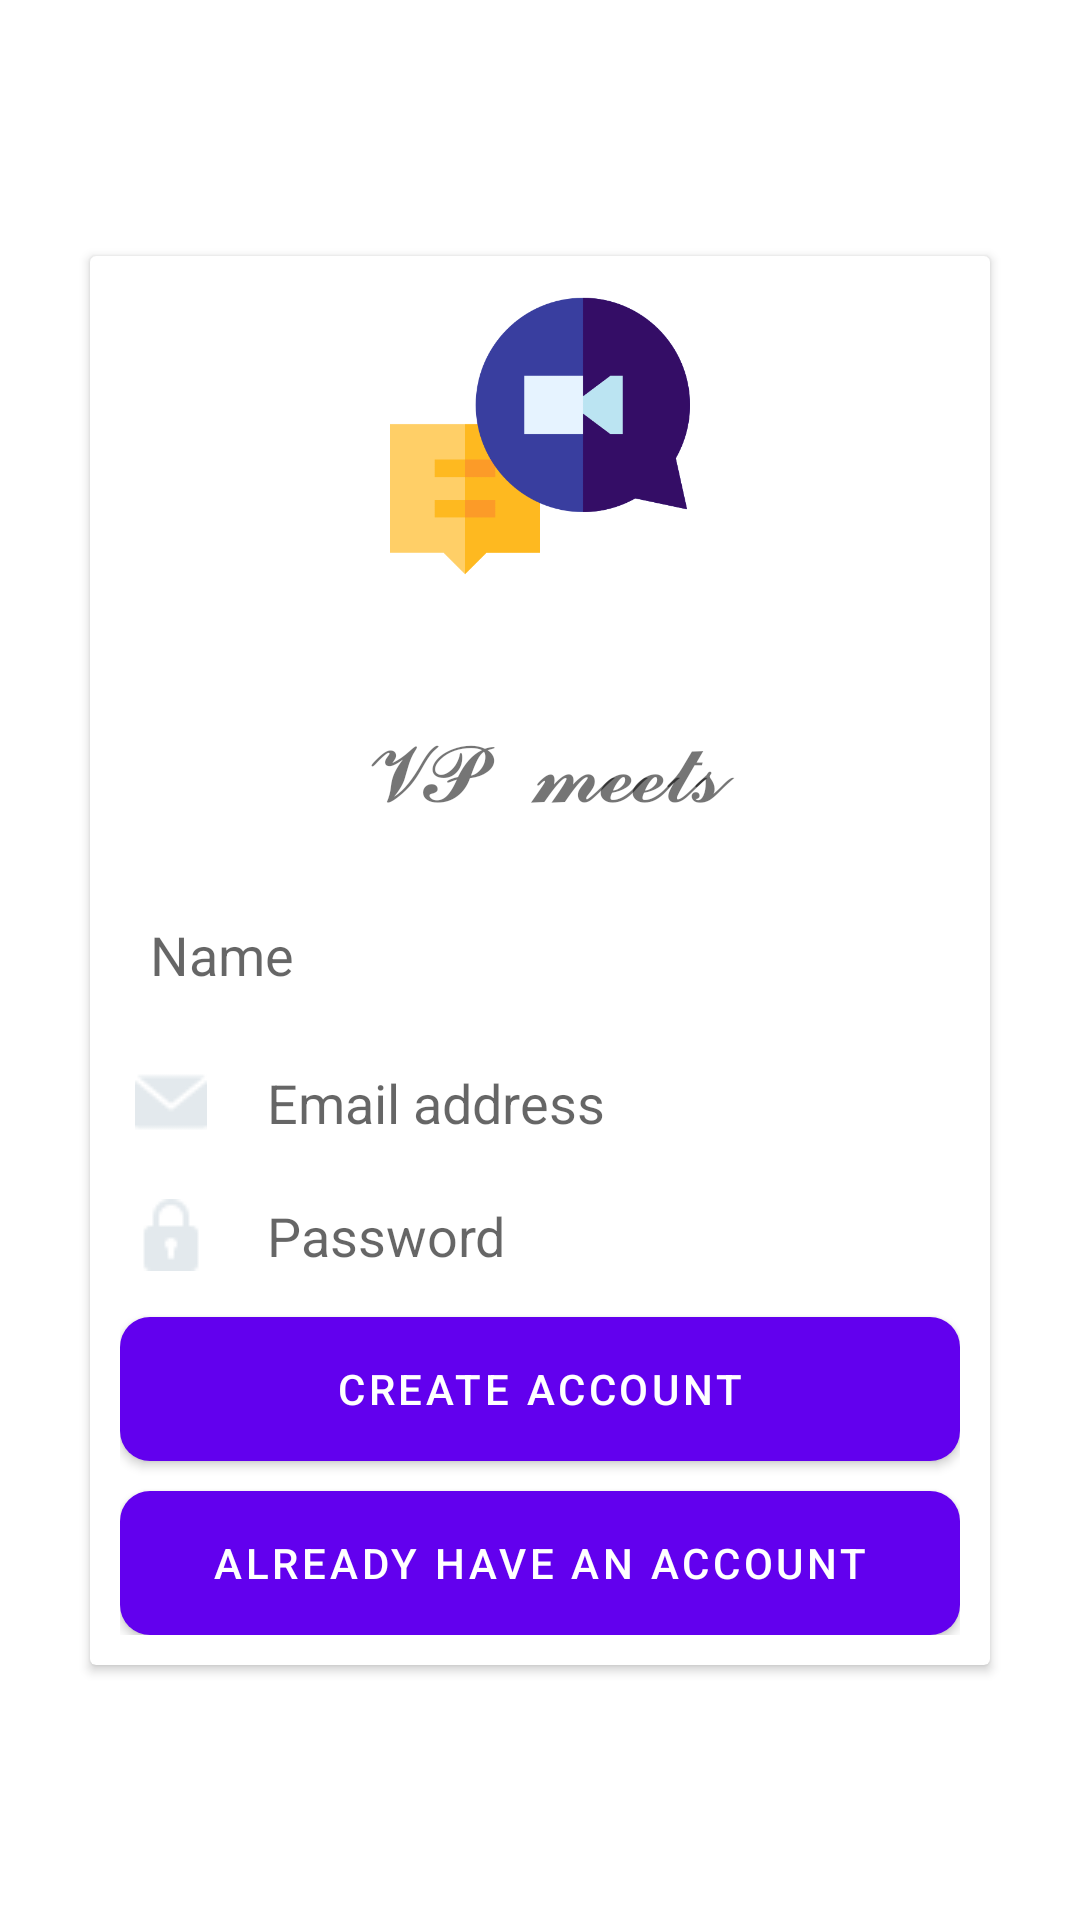

Where to tap for icons on this 1080w x 1920h app screen, as (x,y):
meeting: (540,435)
